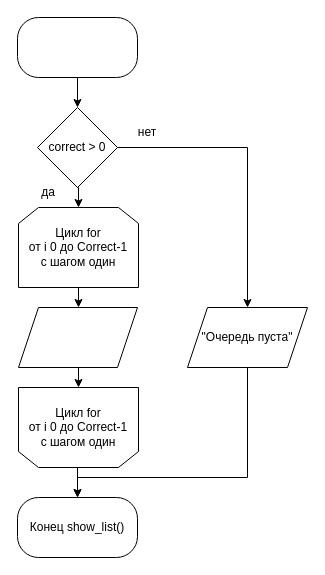
The diagram is 325 pixels wide and 575 high, and some of its shapes have lost their labels. The shapes that lost their labels are listed below. From the top down, each one's centre as x and y in pixels, then its label:
the point at 77,47: Начало show_list()
the point at 78,337: Вывод "<-"+Queue[i]
